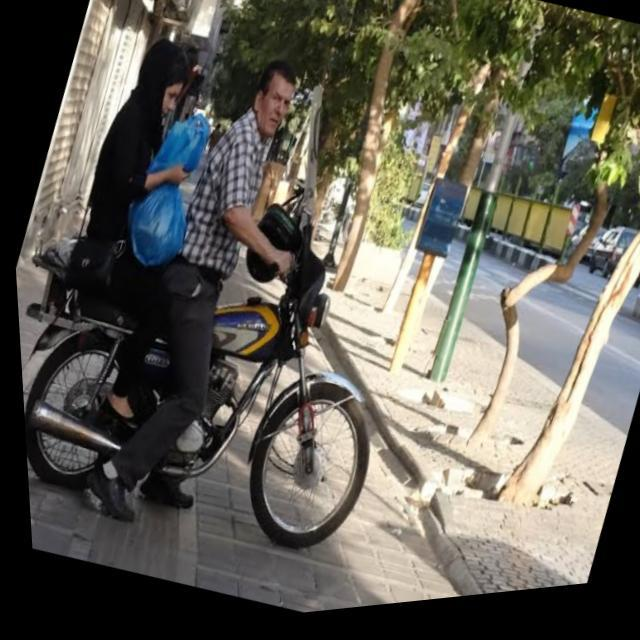Nonhelmet: (241, 48, 305, 147)
